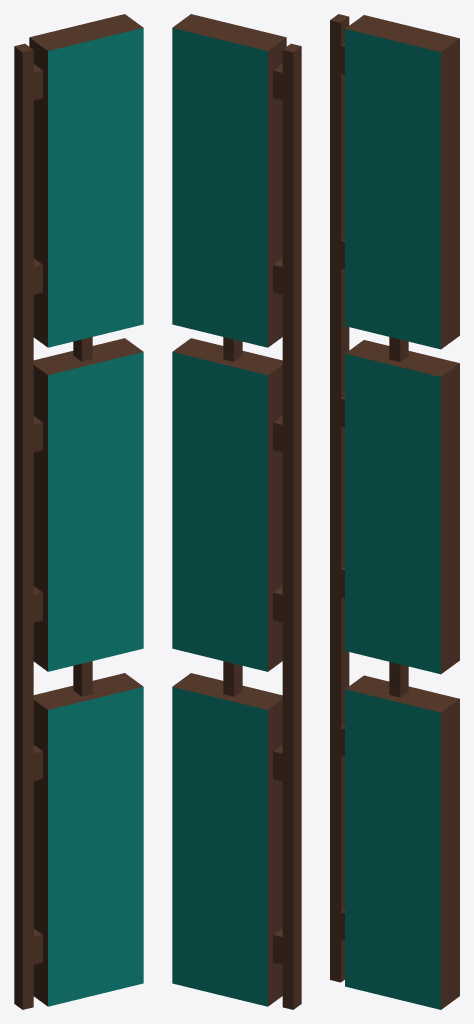
The model's file is Building_Sign.fbx.
3 views of the same model, side by side, from view 1: azimuth 30°, elevation 25°; view 2: azimuth 150°, elevation 25°; view 3: azimuth 330°, elevation 25° (orthographic).
Visible parts, largest first — view 1: polySurface646; view 2: polySurface646; view 3: polySurface646.
Boxes of the visible parts, x1,y1,x2,y2 form: polySurface646: [14, 14, 143, 1009]; polySurface646: [172, 14, 301, 1009]; polySurface646: [330, 14, 459, 1009].
Size of the model in its own units: 6.06 by 47.83 by 1.71.
